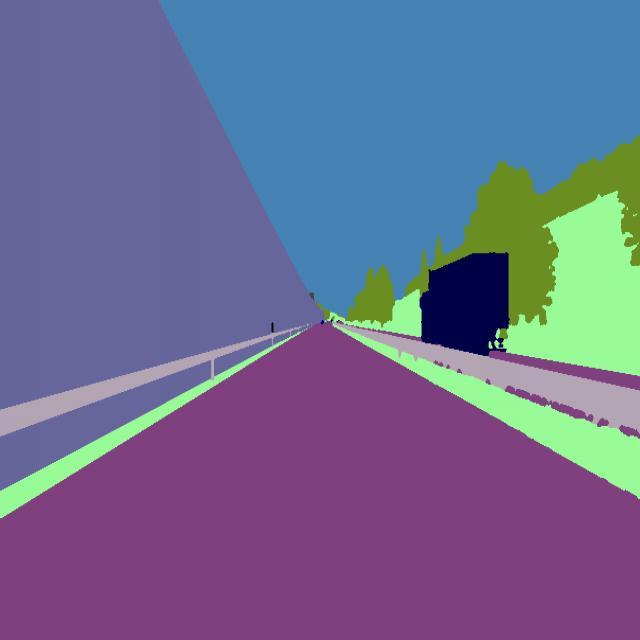safe: (418, 246, 512, 365)
